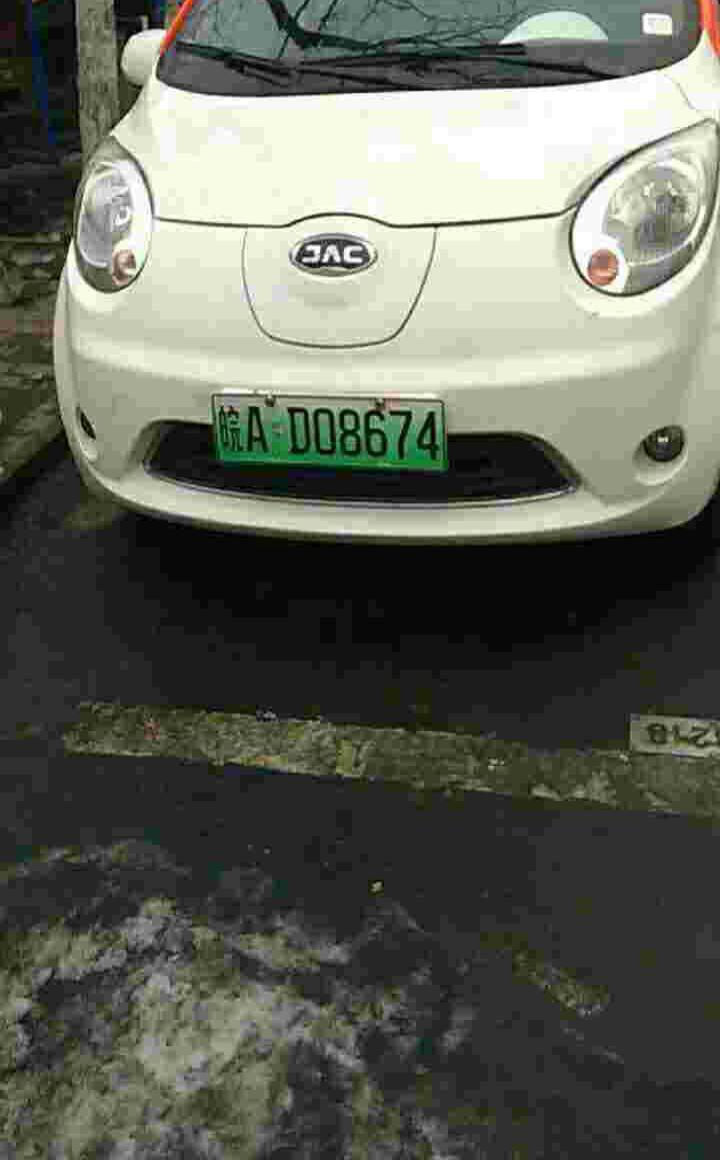car_green: (204, 383, 454, 480)
